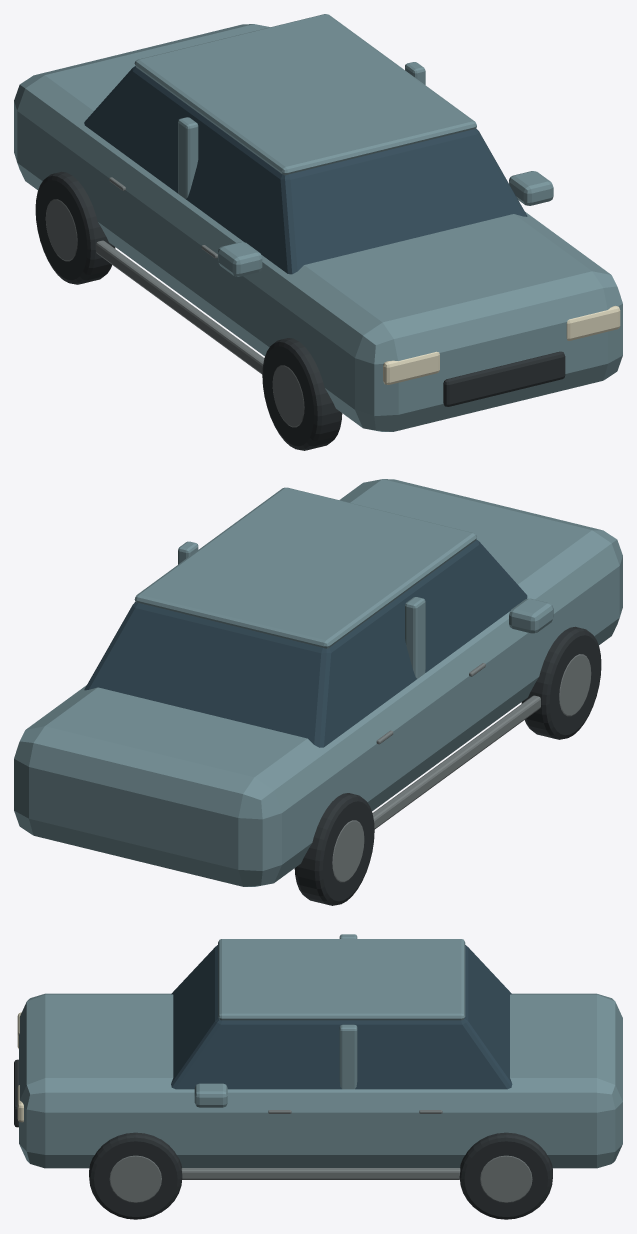
Rendered from car-painterly.glb.
3 renders of one model, top to bottom at view 1: azimuth 30°, elevation 25°; view 2: azimuth 150°, elevation 25°; view 3: azimuth 270°, elevation 25°, orthographic. The views are drawn at different scales.
Parts seen in each view (by area): view 1: paint, glass, rubber, frame, lamp; view 2: paint, glass, rubber, frame; view 3: paint, glass, rubber, frame.
Boxes of the visible parts, x1,y1,x2,y2 form: paint: (14, 14, 622, 431); glass: (84, 66, 527, 274); rubber: (35, 171, 565, 450); frame: (45, 177, 304, 427); lamp: (383, 305, 620, 384); paint: (14, 479, 622, 886); glass: (84, 539, 527, 747); rubber: (294, 626, 601, 905); frame: (332, 654, 591, 882); paint: (19, 934, 622, 1168); glass: (171, 945, 512, 1089); rubber: (14, 1059, 552, 1219); frame: (109, 1110, 532, 1202).
Bounding box in the file's own units: 2.2 × 1.51 × 4.44.
